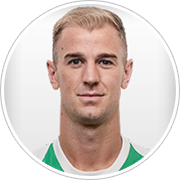smile: (76, 91, 108, 104)
